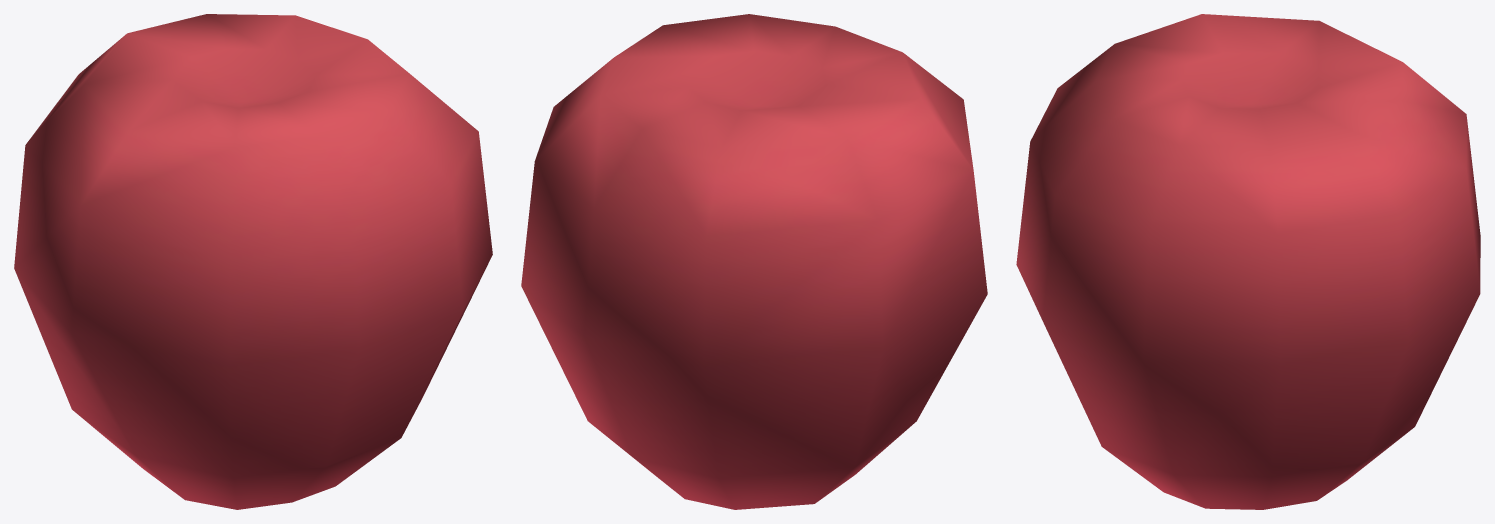
Rendered from SM_Apple_01.fbx.
The picture shows the model from 3 angles, left to right: view 1: azimuth 30°, elevation 25°; view 2: azimuth 150°, elevation 25°; view 3: azimuth 270°, elevation 25°; orthographic projection.
Parts seen in each view (by area): view 1: SM_Apple_01; view 2: SM_Apple_01; view 3: SM_Apple_01.
Part boxes in pixels (x1,y1,x2,y2): SM_Apple_01: (14, 14, 492, 509); SM_Apple_01: (521, 14, 987, 509); SM_Apple_01: (1016, 14, 1480, 509).
Size of the model in its own units: 9.74 by 8.99 by 9.72.
